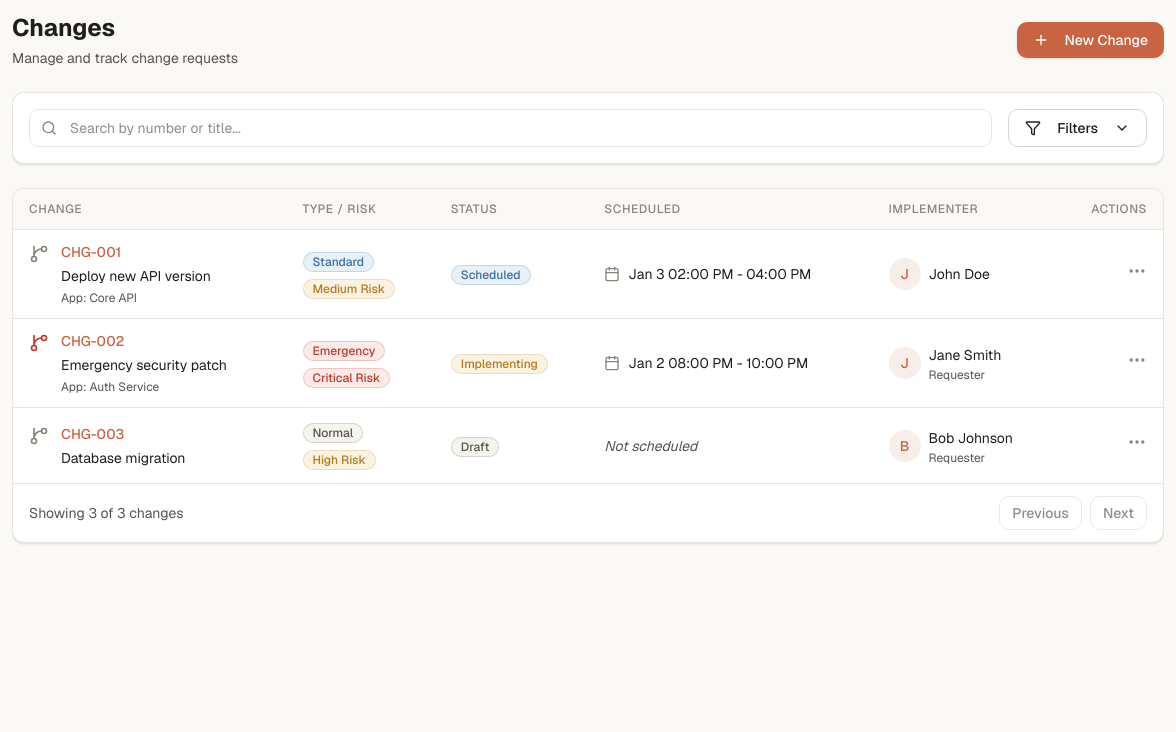
Test case: ChangesPage › Empty State › shows empty state when search has no results
Step 1. Type "nonexistent" into the field with placeholder "Search by number or title..." → (511, 128), box [29,109,992,147]
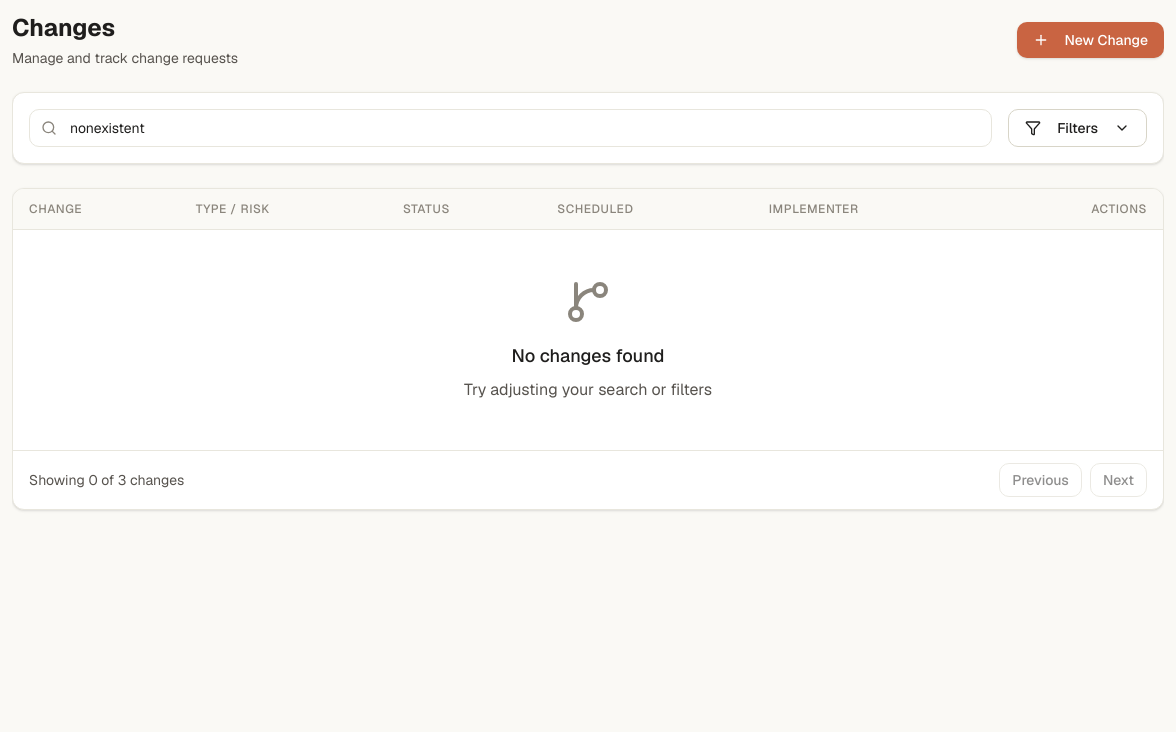
Now the heading "No changes found" is shown, box [512,344,665,367]
